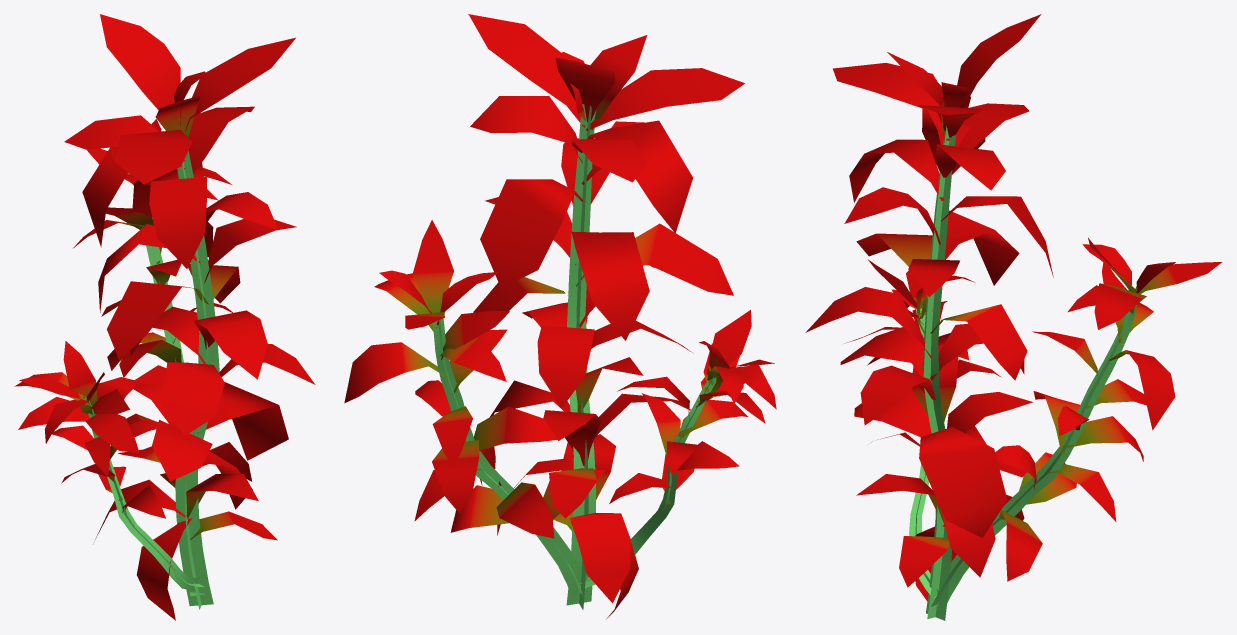
Rendered from Spotted Laurel_LOD2_Var1_sfDik.fbx.
3 views of the same model, side by side, from view 1: azimuth 30°, elevation 25°; view 2: azimuth 150°, elevation 25°; view 3: azimuth 270°, elevation 25° (orthographic). The views are drawn at different scales.
Visible parts, largest first — view 1: _e2e0_Var1_LOD2; view 2: _e2e0_Var1_LOD2; view 3: _e2e0_Var1_LOD2.
Boxes of the visible parts, bbox=[...] form: _e2e0_Var1_LOD2: bbox=[14, 14, 315, 620]; _e2e0_Var1_LOD2: bbox=[344, 14, 776, 619]; _e2e0_Var1_LOD2: bbox=[805, 14, 1221, 620].
Bounding box in the file's own units: 52.42 × 95.45 × 61.42.
